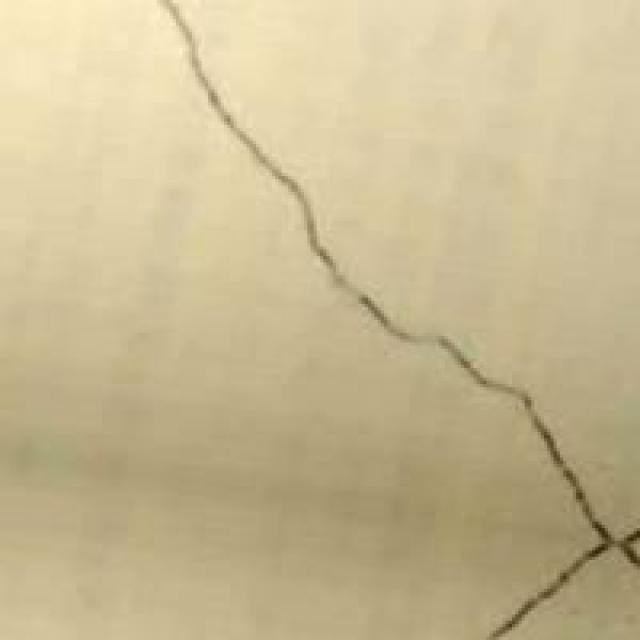Crack: (138, 4, 637, 631)
